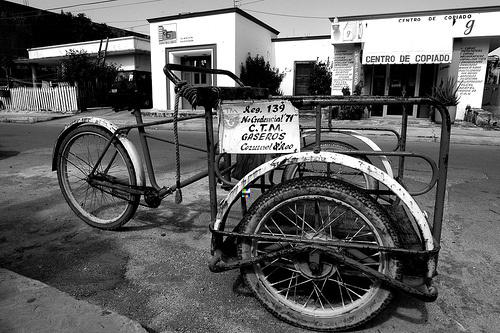car: (45, 61, 447, 326)
pottedplant: (432, 74, 461, 124)
